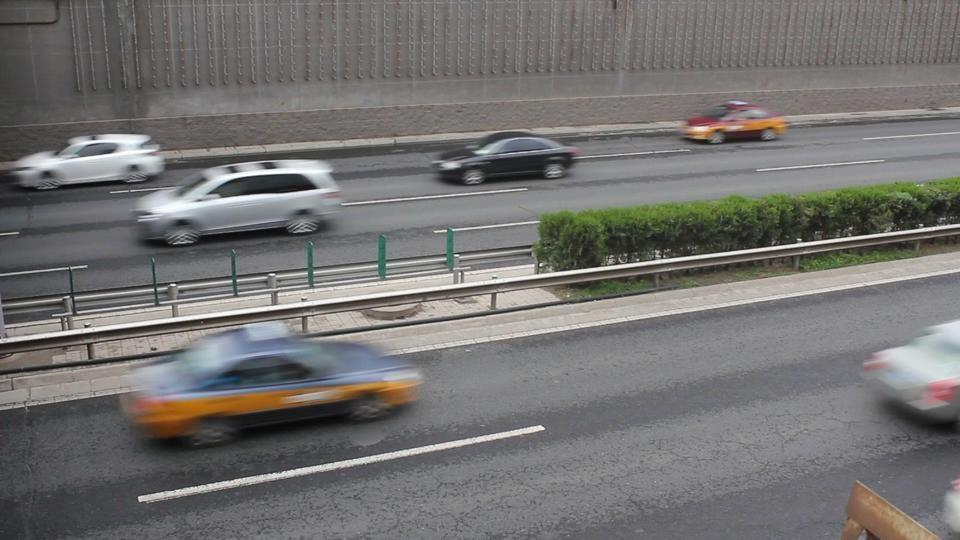car: (124, 323, 422, 450), (131, 159, 343, 248), (861, 319, 960, 428), (3, 133, 166, 192), (432, 133, 581, 186), (676, 100, 789, 145)
